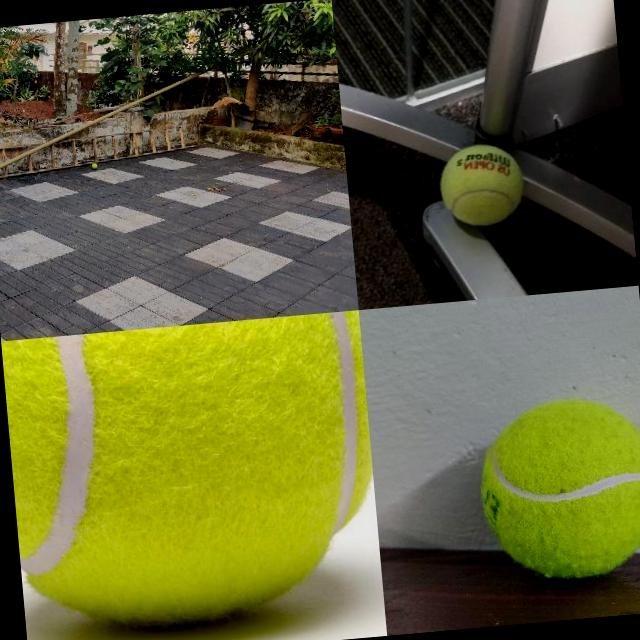Tennis Ball: (1, 309, 384, 640), (473, 390, 640, 585), (437, 140, 528, 230), (91, 162, 98, 168)
